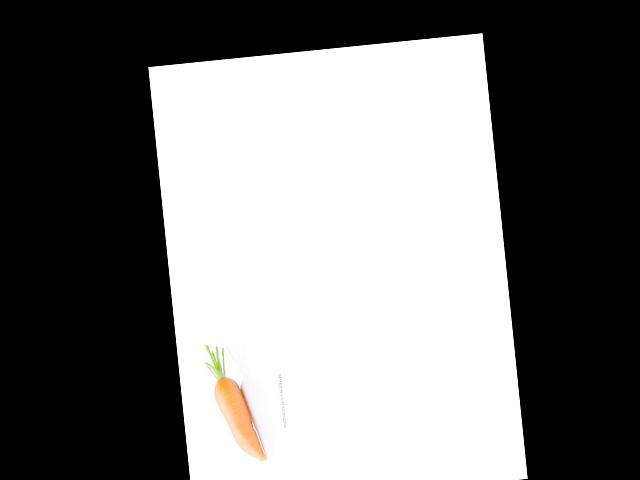carrot: (209, 371, 268, 469)
